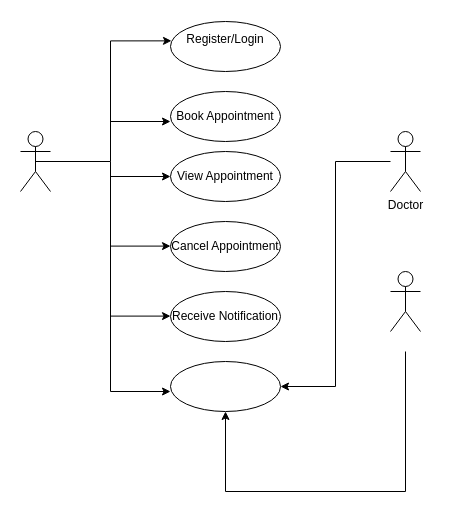
Image size: 470x517. Some labels were removed from this diagram. The centre of each missing label's shape, as x and y in pixels:
"Clinic Staff/Admin" goes at (x=405, y=301).
"Patient" goes at (x=35, y=161).
"Update Doctor Availability" goes at (x=225, y=386).
